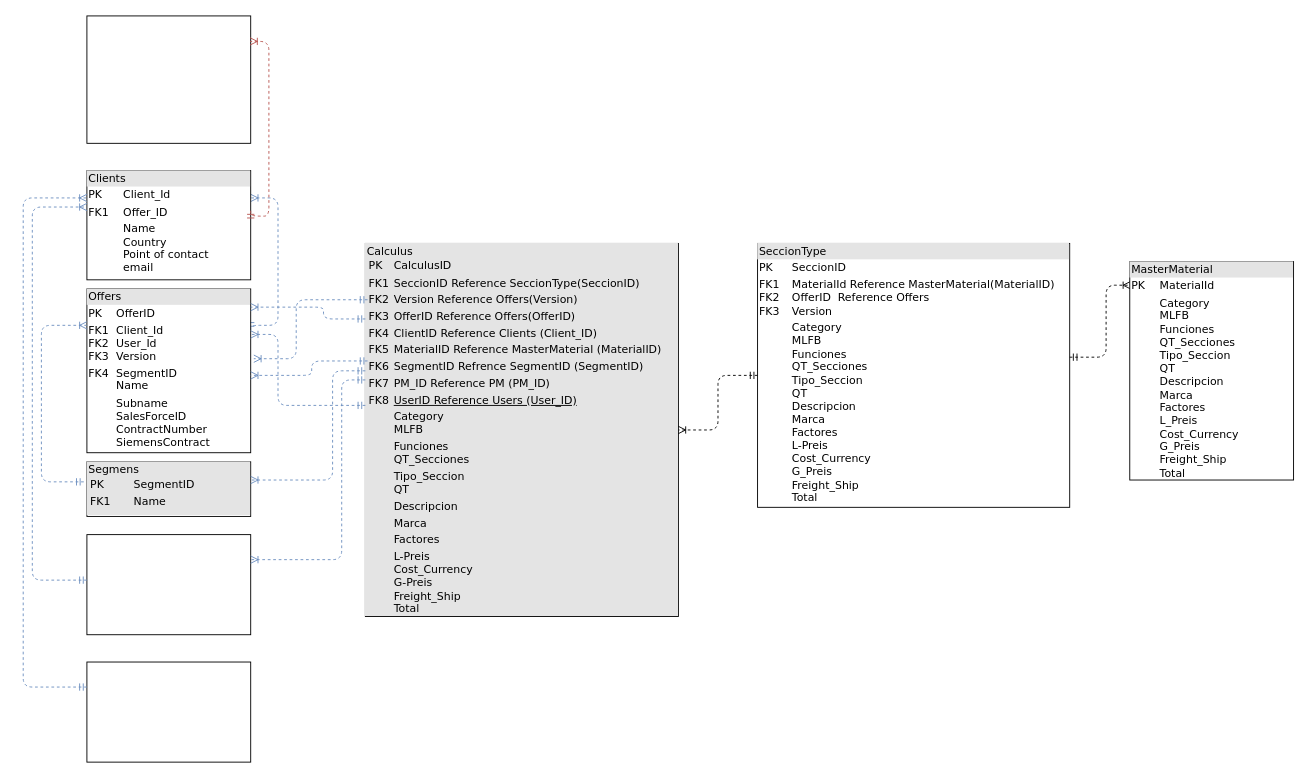
This 1309x778 diagram has some shape labels left out. Each missing label, with the centre of its shape:
Managers PK Manager_ID FK1 OfferID Name Lastname Rol: the point at 168,711
PM PK PM_ID FK1 OfferID Name Lastname Rol: the point at 168,584
Users PK User_ID FK1 Offer_ID Name Lastname Password Role email: the point at 168,79
